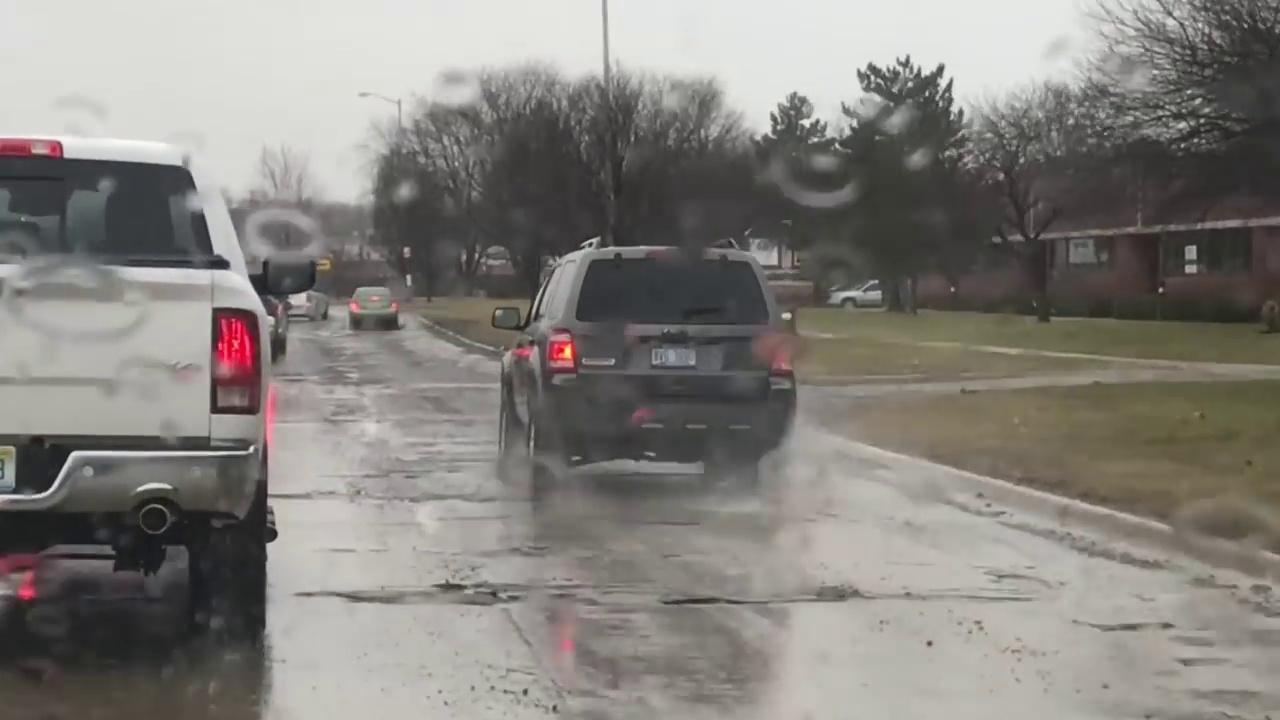pothole: (294, 581, 1037, 607), (1073, 620, 1176, 631), (1179, 658, 1220, 666)
